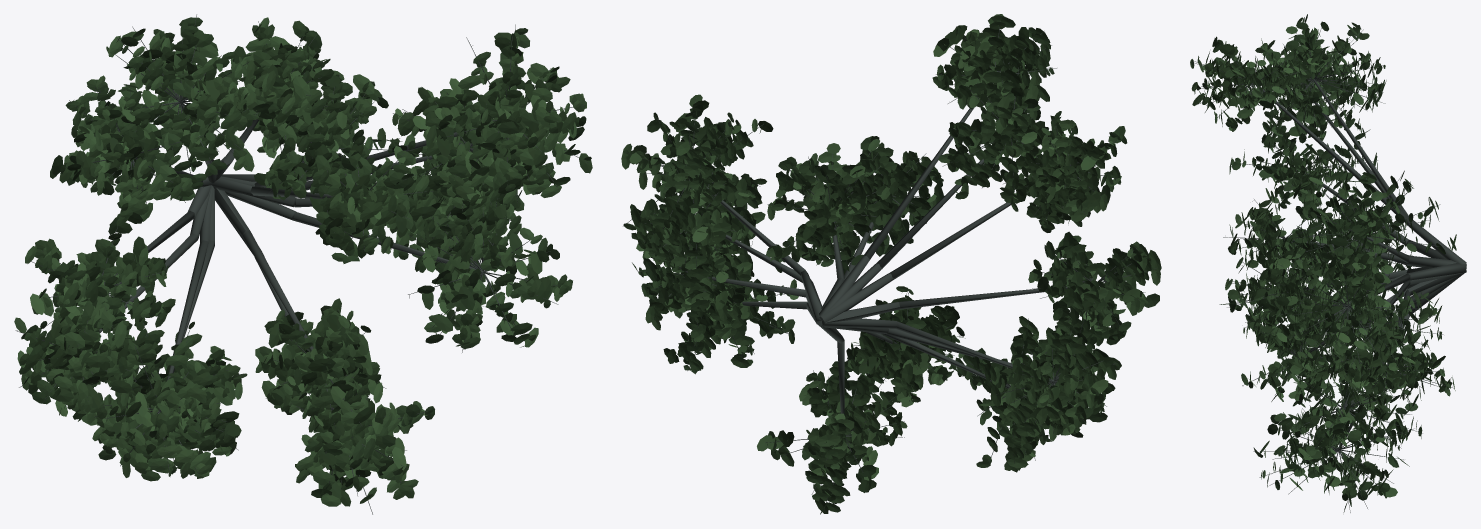
Rendered from tree_m8.obj.
3 renders of one model, left to right at view 1: azimuth 30°, elevation 25°; view 2: azimuth 150°, elevation 25°; view 3: azimuth 270°, elevation 25°, orthographic. The views are drawn at different scales.
Size of the model in its own units: 1.9 by 1.73 by 1.01.
1 material, 1 textured.
